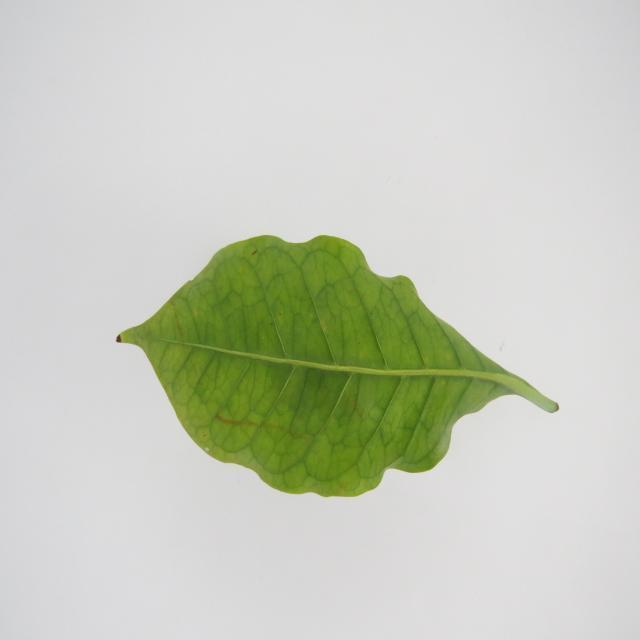DeficienciaNutricional-Calcio: (116, 235, 558, 497)
